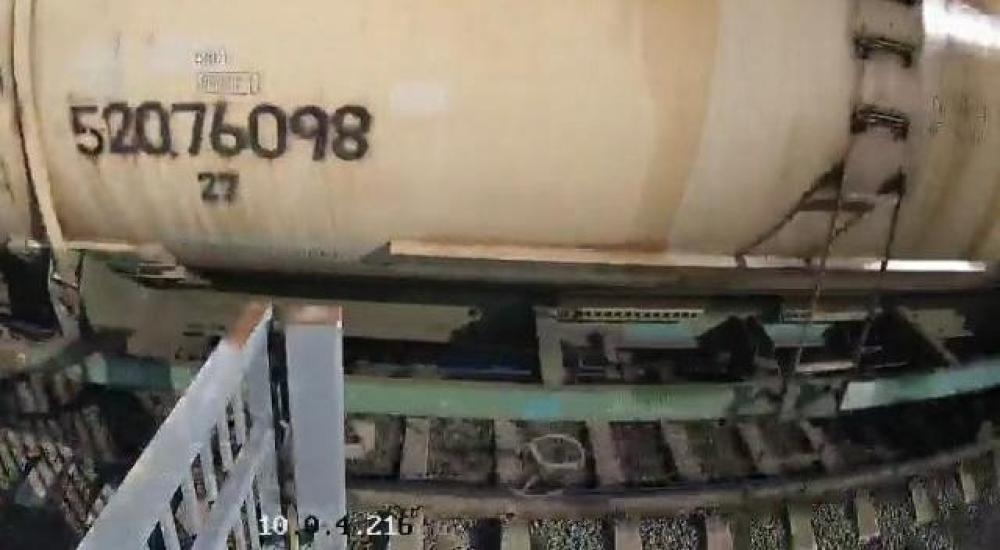Wagon-number: (65, 98, 379, 166)
